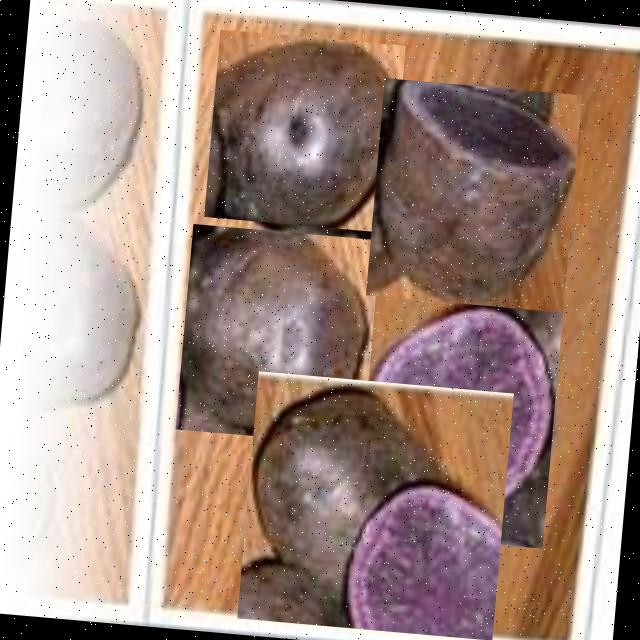Damaged potato: (235, 371, 512, 640), (174, 224, 379, 446), (202, 29, 404, 232)
Defected potato: (348, 294, 562, 548), (364, 78, 580, 312)
